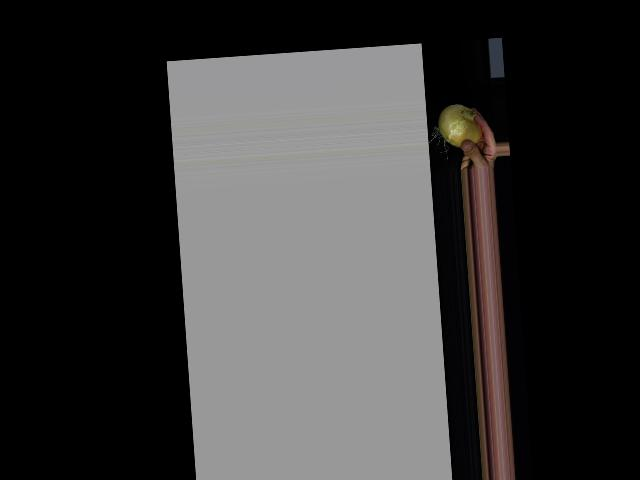onion: (436, 103, 483, 148)
